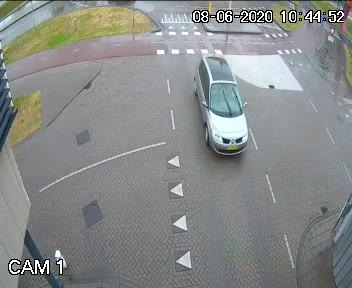car: (181, 34, 270, 179)
